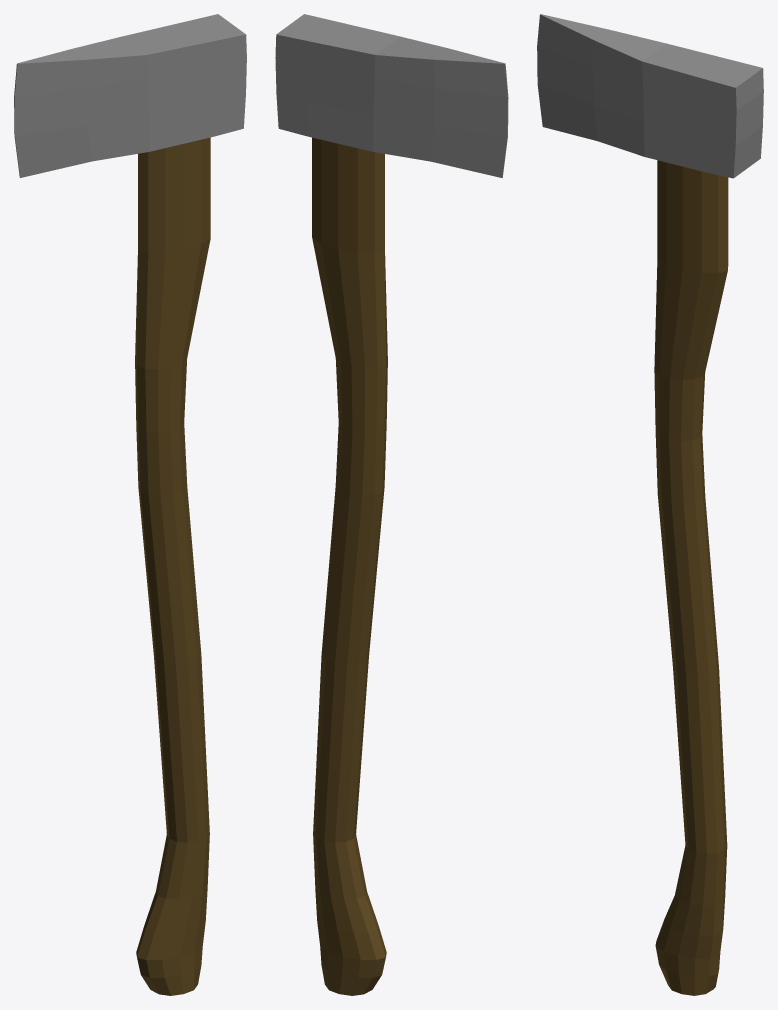
The model's file is Axe.fbx.
3 renders of one model, left to right at view 1: azimuth 30°, elevation 25°; view 2: azimuth 150°, elevation 25°; view 3: azimuth 330°, elevation 25°, orthographic. The views are drawn at different scales.
Parts seen in each view (by area): view 1: Axe; view 2: Axe; view 3: Axe.
Part boxes in pixels (x1=…): Axe: x1=14, y1=14, x2=246, y2=995; Axe: x1=275, y1=14, x2=508, y2=995; Axe: x1=537, y1=14, x2=763, y2=995.
Size of the model in its own units: 16.2 by 68.04 by 3.59.
